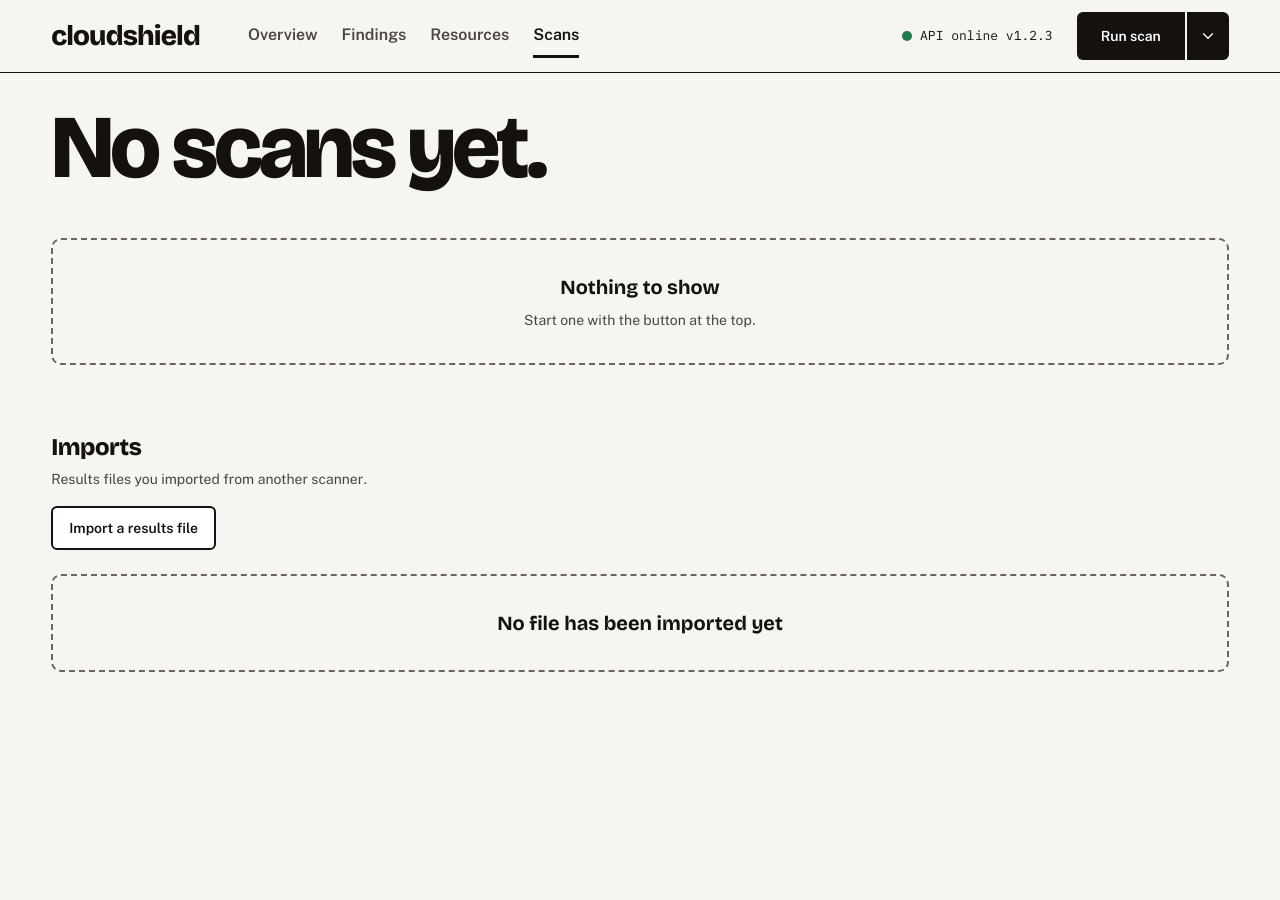
Test case: Run scan: the split button › has the main button and a second button that opens a menu of choices
Click the button named "More ways to scan" at [1207, 36], box left=1185, top=12, right=1229, bottom=60
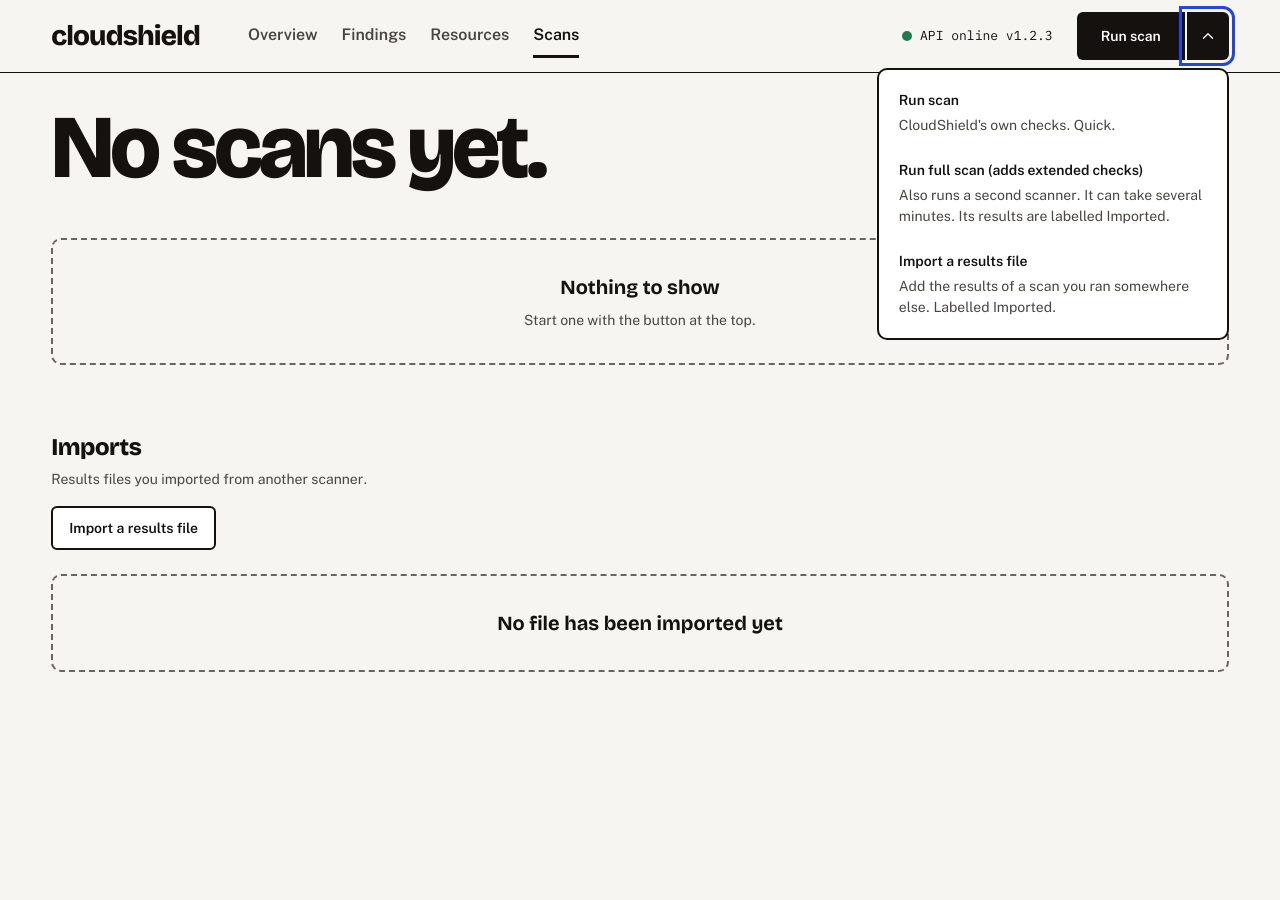
Now the menu item "Run scan CloudShield's own checks. Quick." is enabled, box left=887, top=78, right=1219, bottom=148
Now the menu item "Run full scan (adds extended checks)" is shown, box left=887, top=148, right=1219, bottom=239
Now the button named "More ways to scan" is expanded, box left=1185, top=12, right=1229, bottom=60
